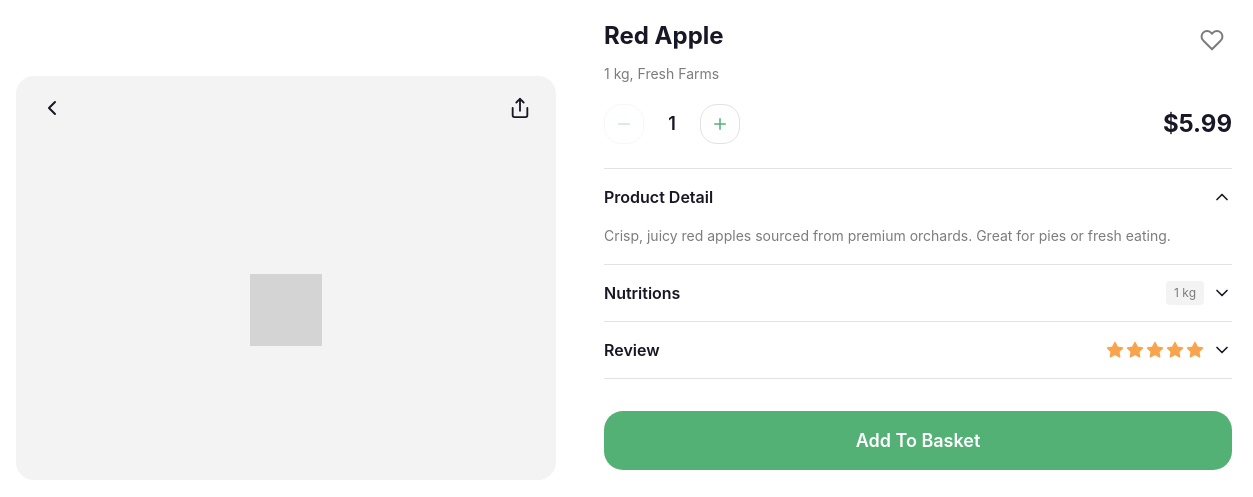
Test: ProductDetailPage › toggles favorite state when heart button is clicked
Step 1. Click the button named "add red apple to favorites" → (1212, 40), box [1192,20,1232,60]
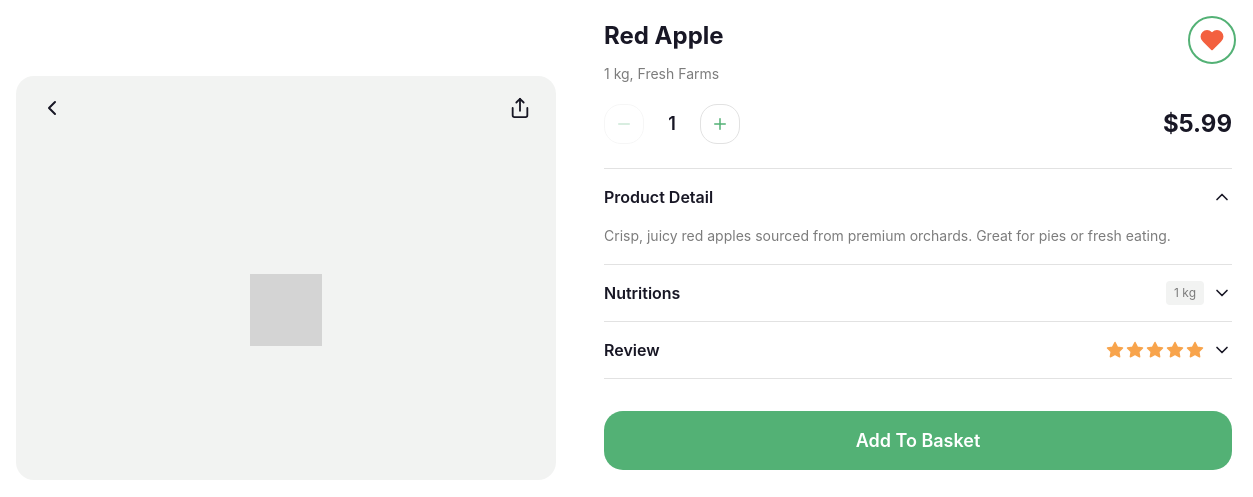
Expected: the button named "remove red apple from favorites" is shown, [1192,20,1232,60]
